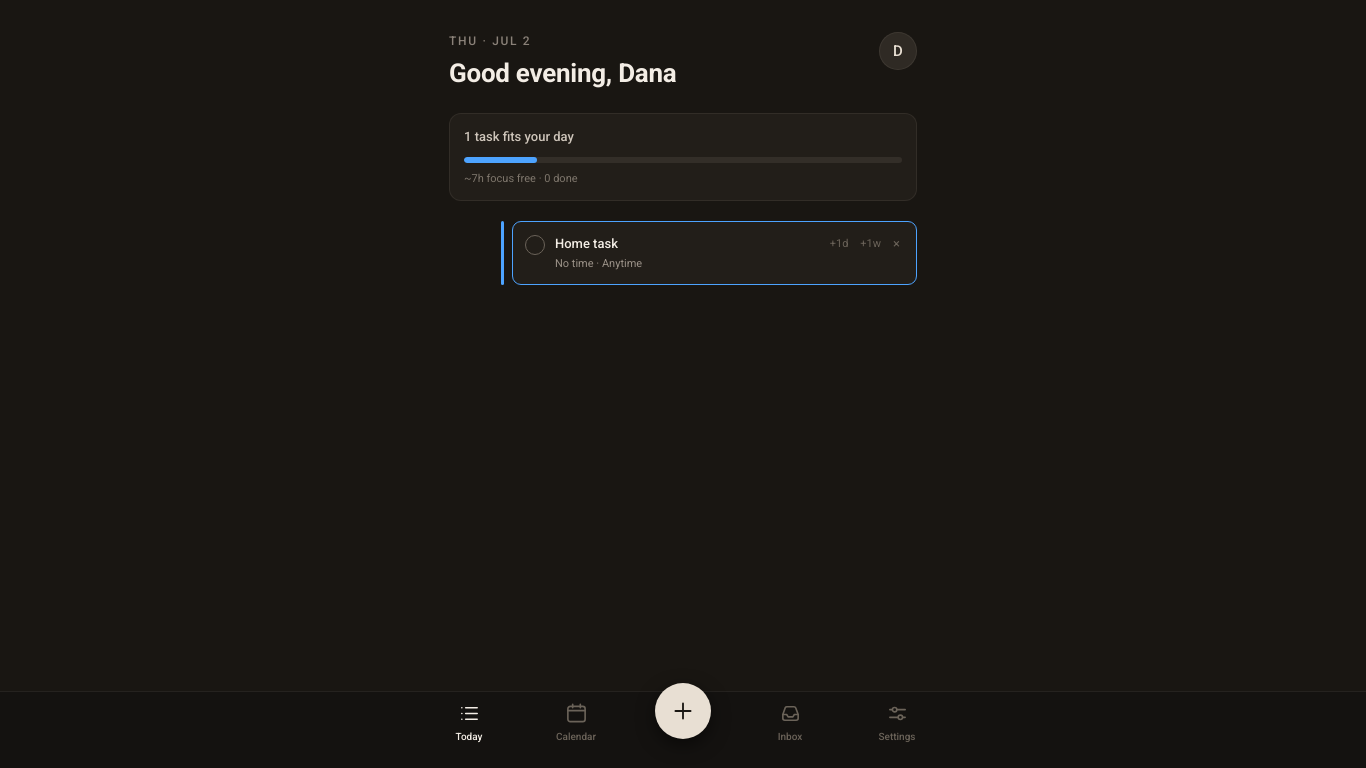
Test: Home tab navigation › switches to Calendar
The image size is (1366, 768).
Click the button "Calendar": coordinates (576, 723) [548,702,604,744]
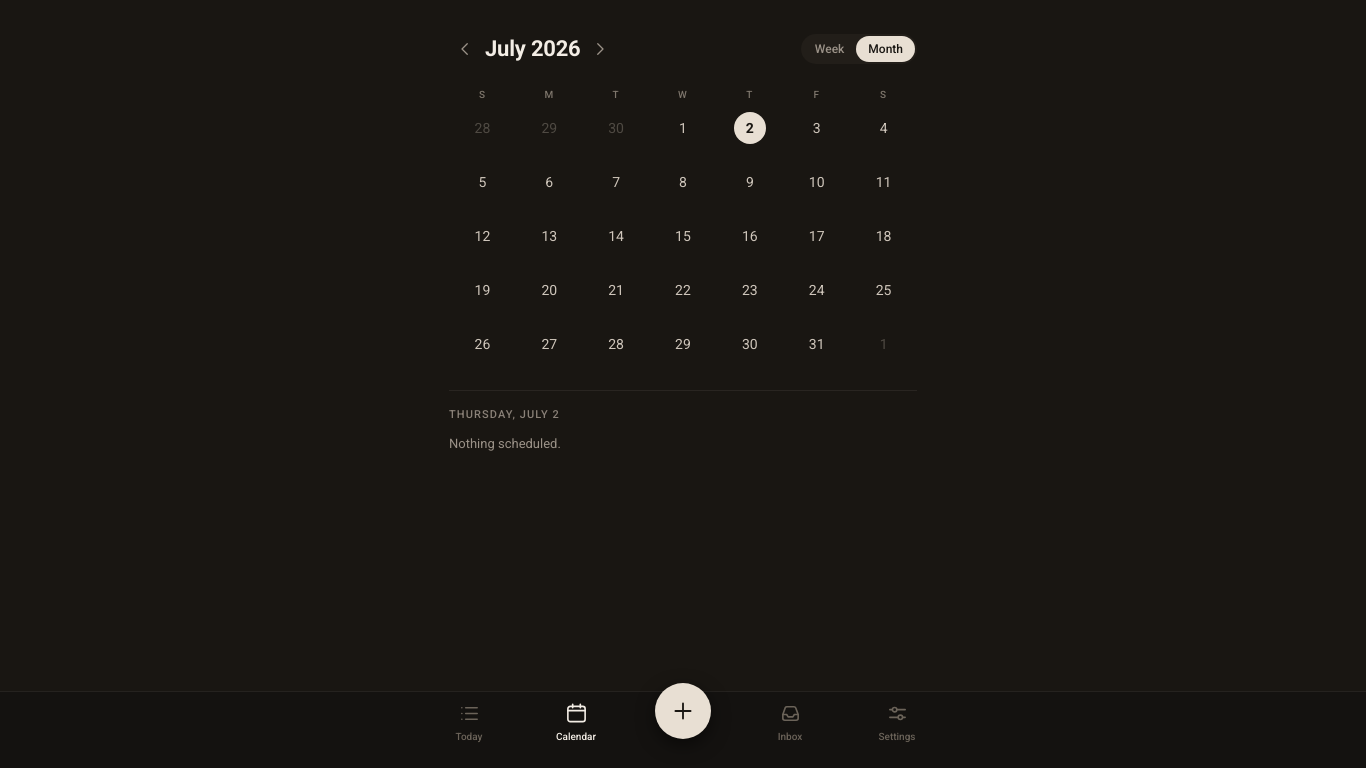
Check: the heading "Good evening, Dana" is gone
